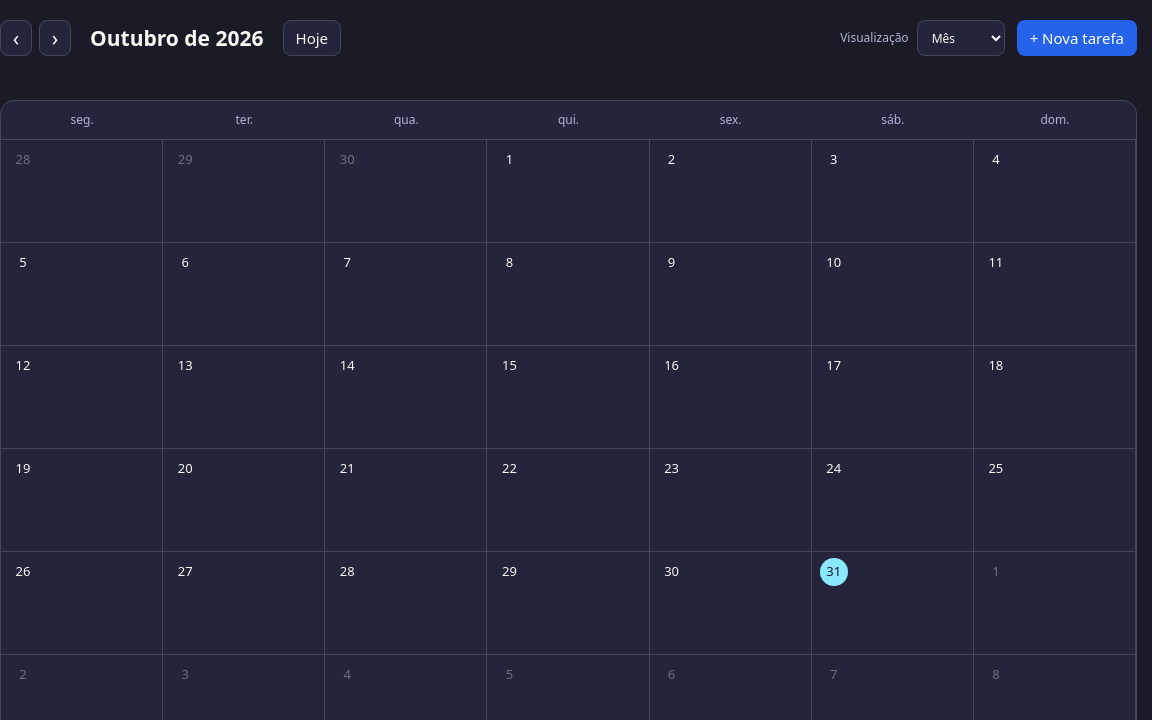
Test: aba de uma empresa carrega a carteira e já vincula a empresa da página
Click the button named "Criar tarefa em 15/10/2026".
click(509, 366)  # box [495,352,523,380]
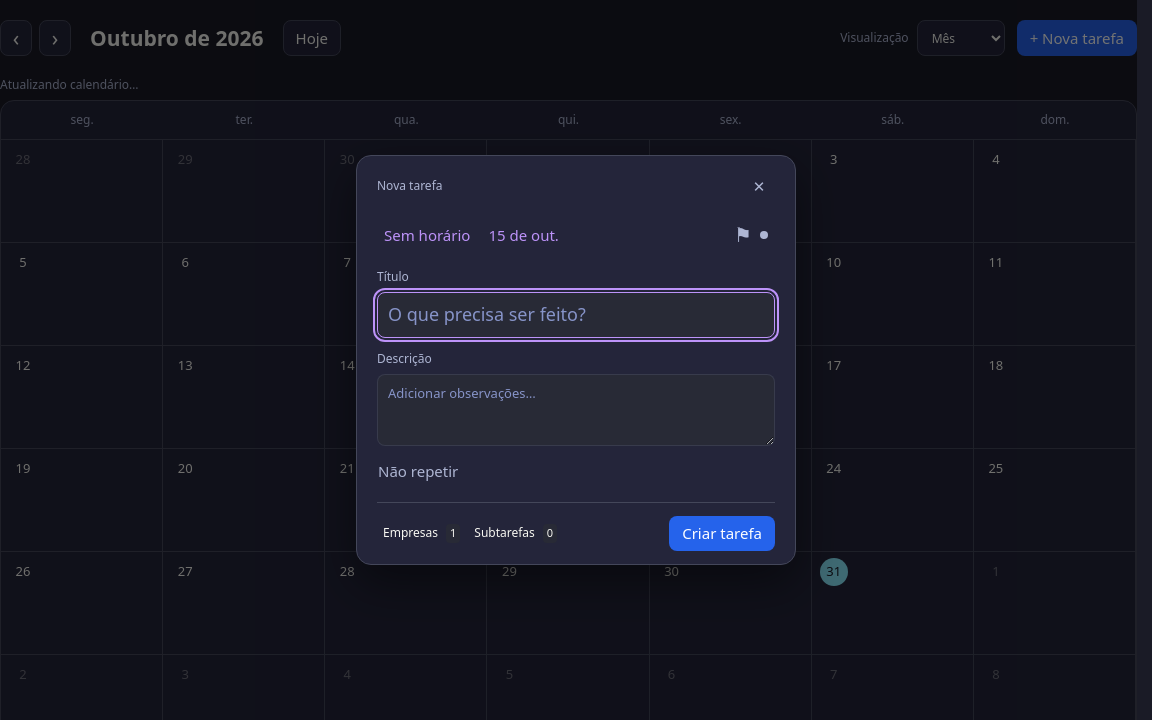
Click the button "Empresas 1".
click(422, 533)  # box [377,517,466,549]
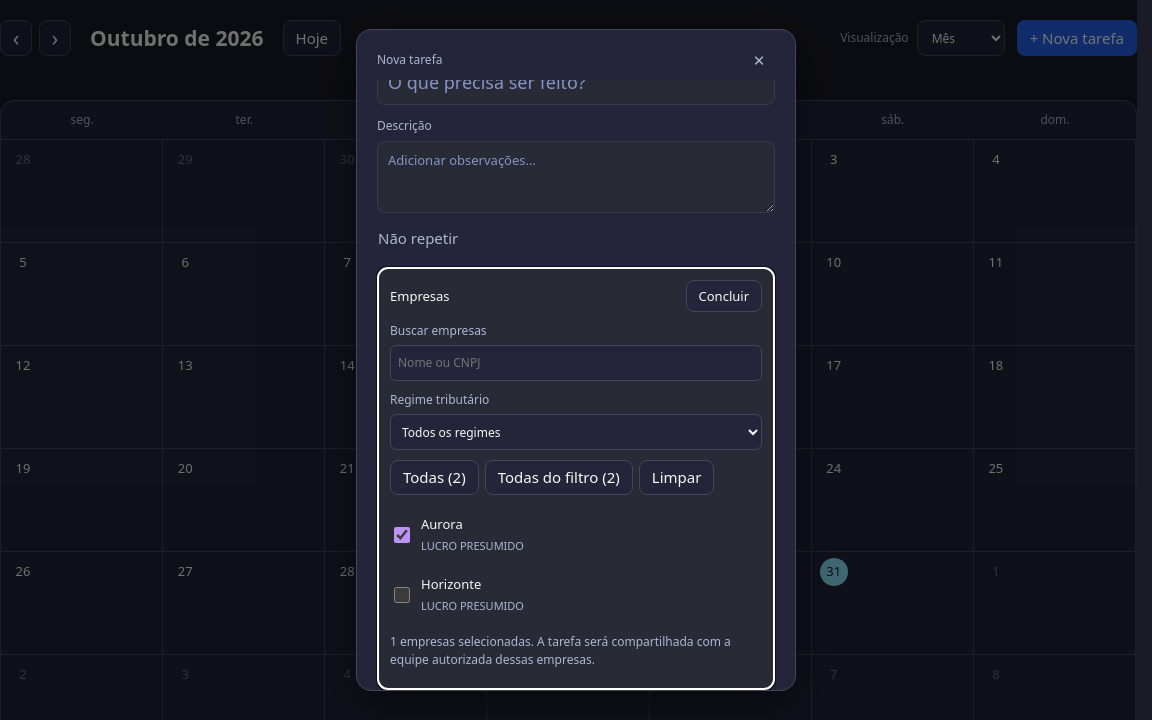
Check: the checkbox labelled "Aurora LUCRO PRESUMIDO" is checked, box [394,516,410,554]
Check: the checkbox labelled "Horizonte LUCRO PRESUMIDO" is not checked, box [394,576,410,614]
